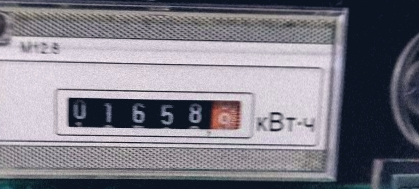0: (70, 98, 87, 119)
1: (100, 99, 114, 123)
5: (158, 101, 174, 125)
6: (129, 100, 147, 124)
8: (186, 101, 203, 123)
9: (215, 109, 231, 130)
screen: (51, 84, 258, 142)
